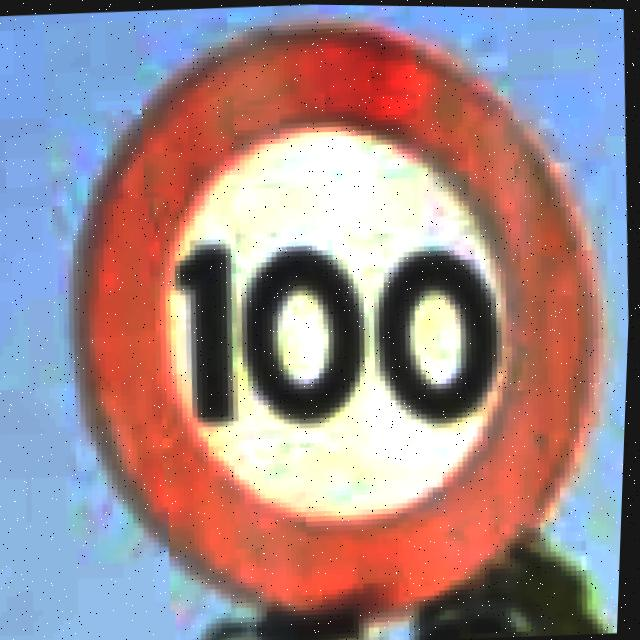max100: (48, 1, 625, 639)
